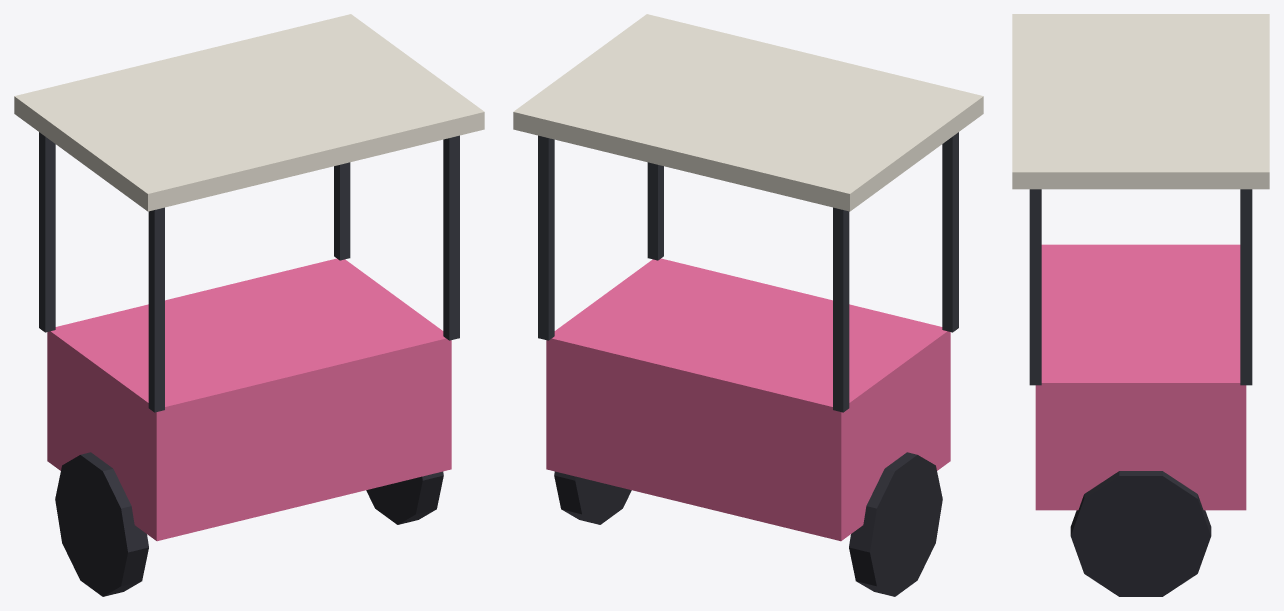
File: zoo_cart.glb
3 views of the same model, side by side, from view 1: azimuth 30°, elevation 25°; view 2: azimuth 150°, elevation 25°; view 3: azimuth 270°, elevation 25° (orthographic). The views are drawn at different scales.
Parts seen in each view (by area): view 1: zoo_cart; view 2: zoo_cart; view 3: zoo_cart.
Boxes of the visible parts, x1,y1,x2,y2 form: zoo_cart: [14, 14, 484, 596]; zoo_cart: [513, 14, 983, 596]; zoo_cart: [1012, 14, 1269, 596].
Size of the model in its own units: 1.6 by 2.03 by 1.1.
